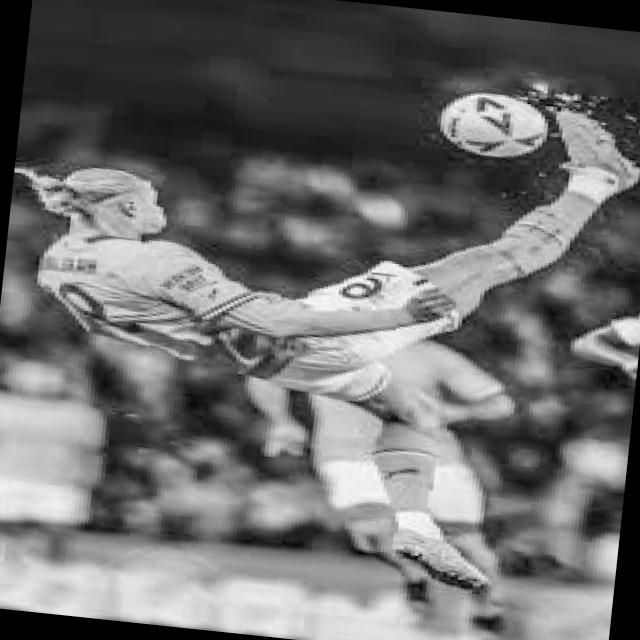football: (424, 85, 558, 167)
